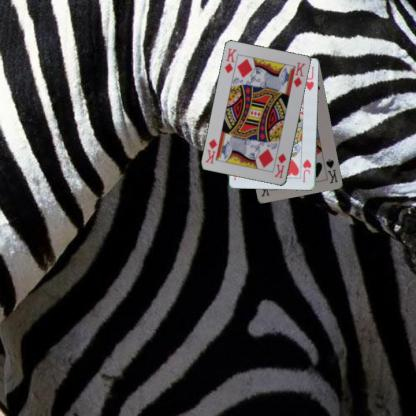Jh: (300, 157, 312, 184)
Kd: (272, 150, 288, 180), (222, 45, 238, 74)
Ks: (324, 156, 339, 185)
